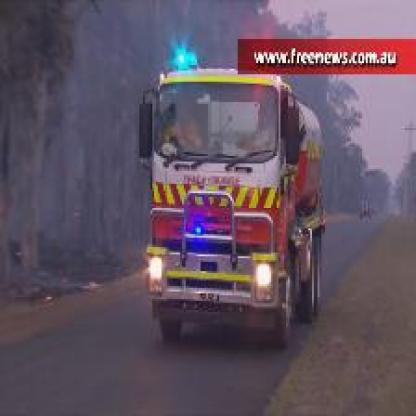other: (155, 178, 269, 224), (247, 249, 305, 322), (139, 247, 173, 292)
